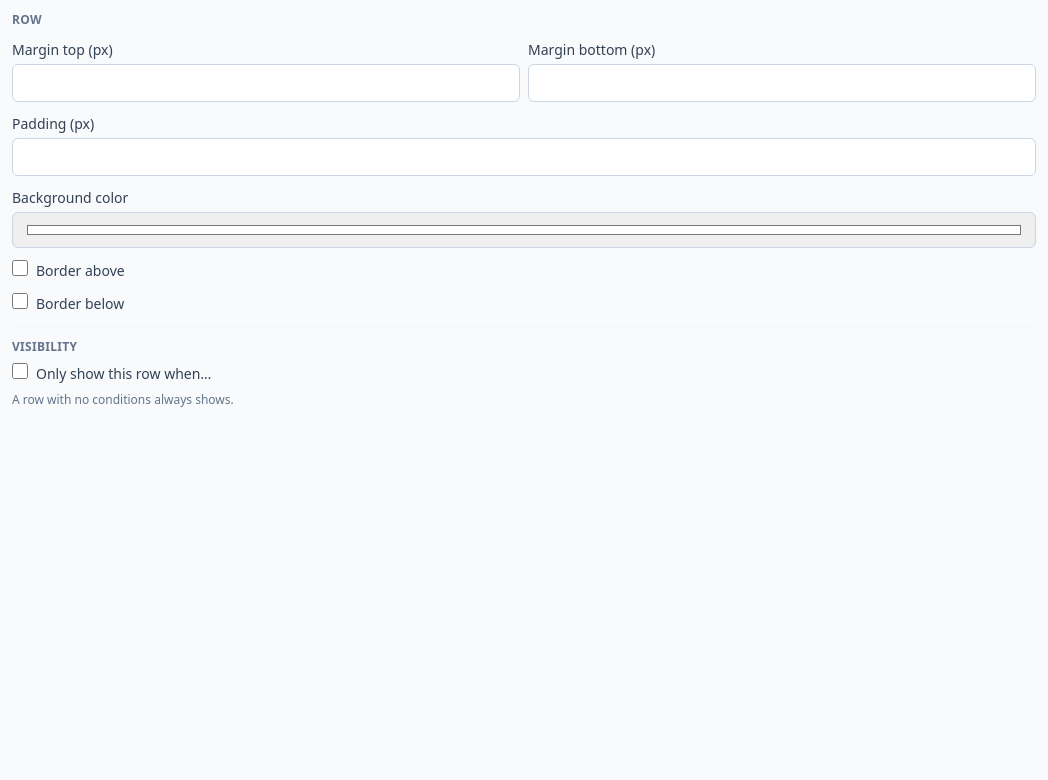
InspectorPanel row Visibility section › checking 'Only show this row when…' seeds a single-rule ALL condition
What coordinates should you click on to do the following:
click the checkbox labelled "Only show this row when…"
I would click on:
 (20, 371)
Its box is [12,363,28,379].
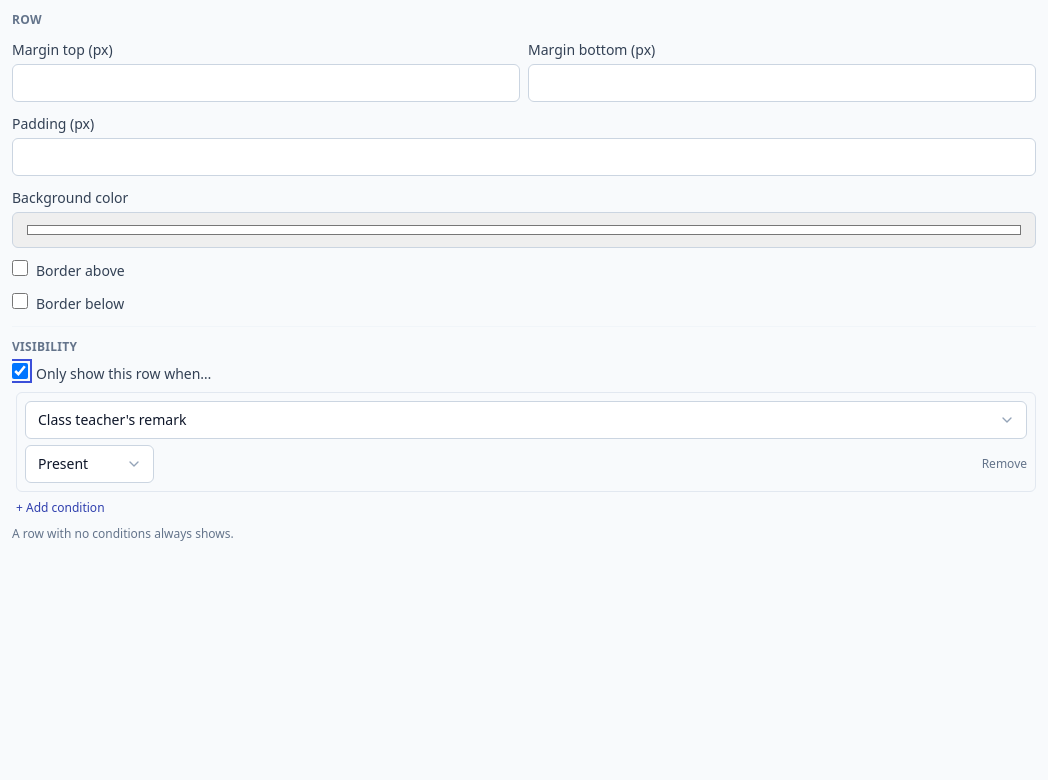
Expected: the dropdown named "Condition" shows "Class teacher's remark", [25,401,1027,439]
Expected: the dropdown named "is / is not" shows "Present", [25,445,154,483]
